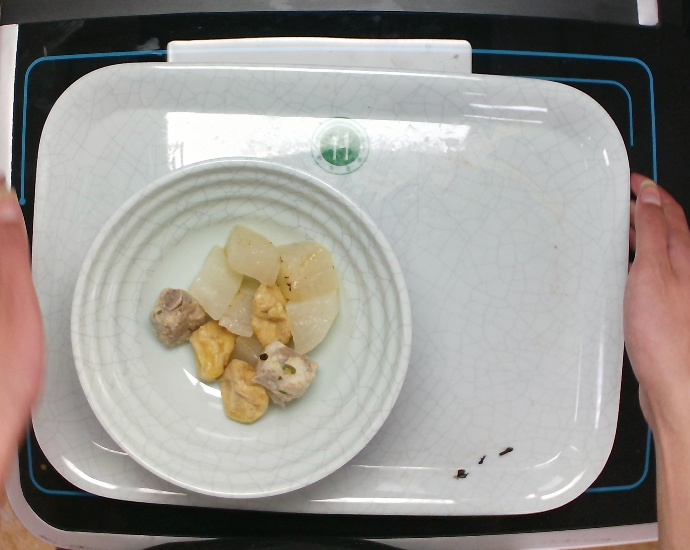JYsf-Da_Tang_Wan: (64, 152, 417, 504)
